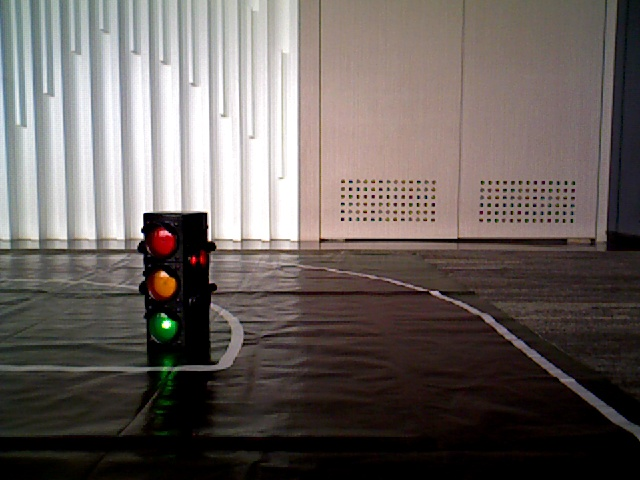green: (145, 220, 189, 346)
